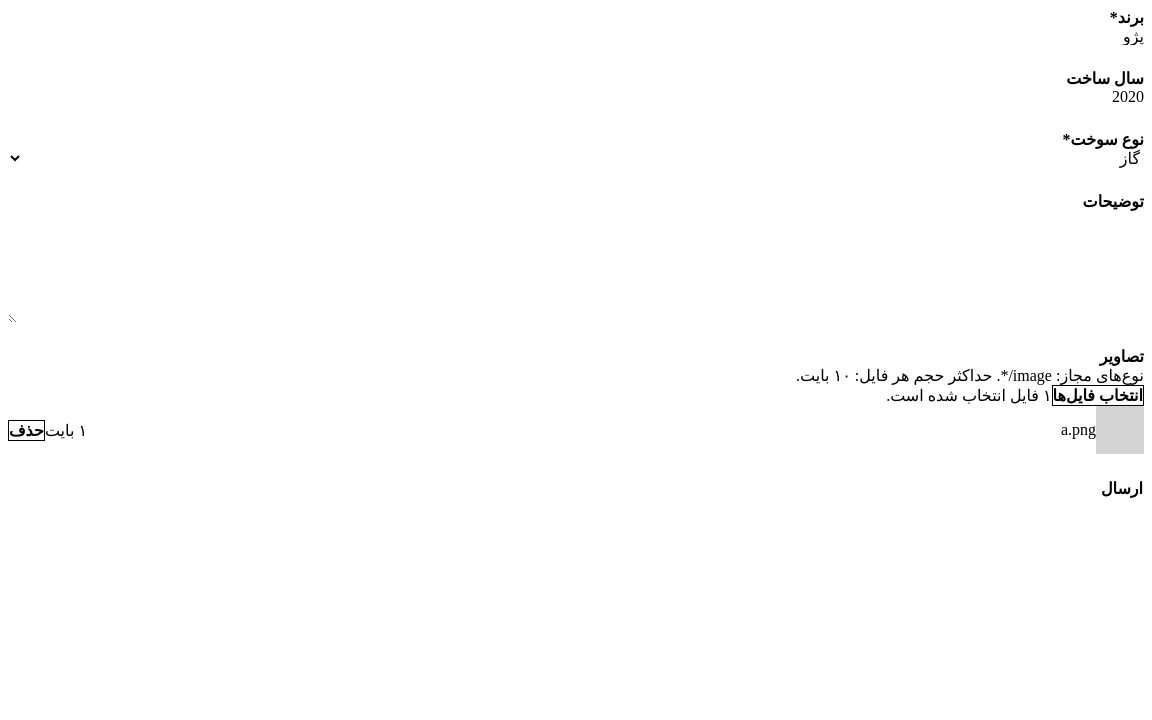
other outcomes › treats an onSubmit that throws like a network failure
Earlier steps of the test are not shown.
Click the button "ارسال".
click(1122, 488)  # box [1100, 478, 1144, 499]
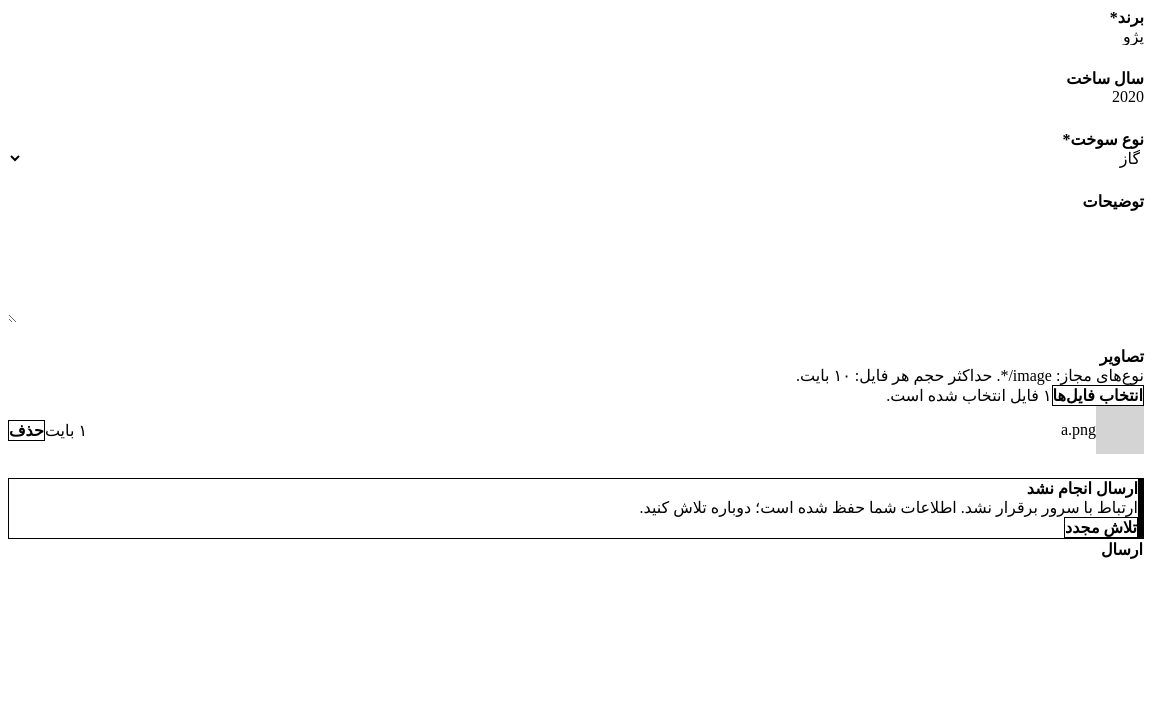
Check: the message shows "ارتباط با سرور برقرار نشد. اطلاعات شما حفظ شده است؛ دوباره تلاش کنید.", box [640, 499, 1138, 516]
